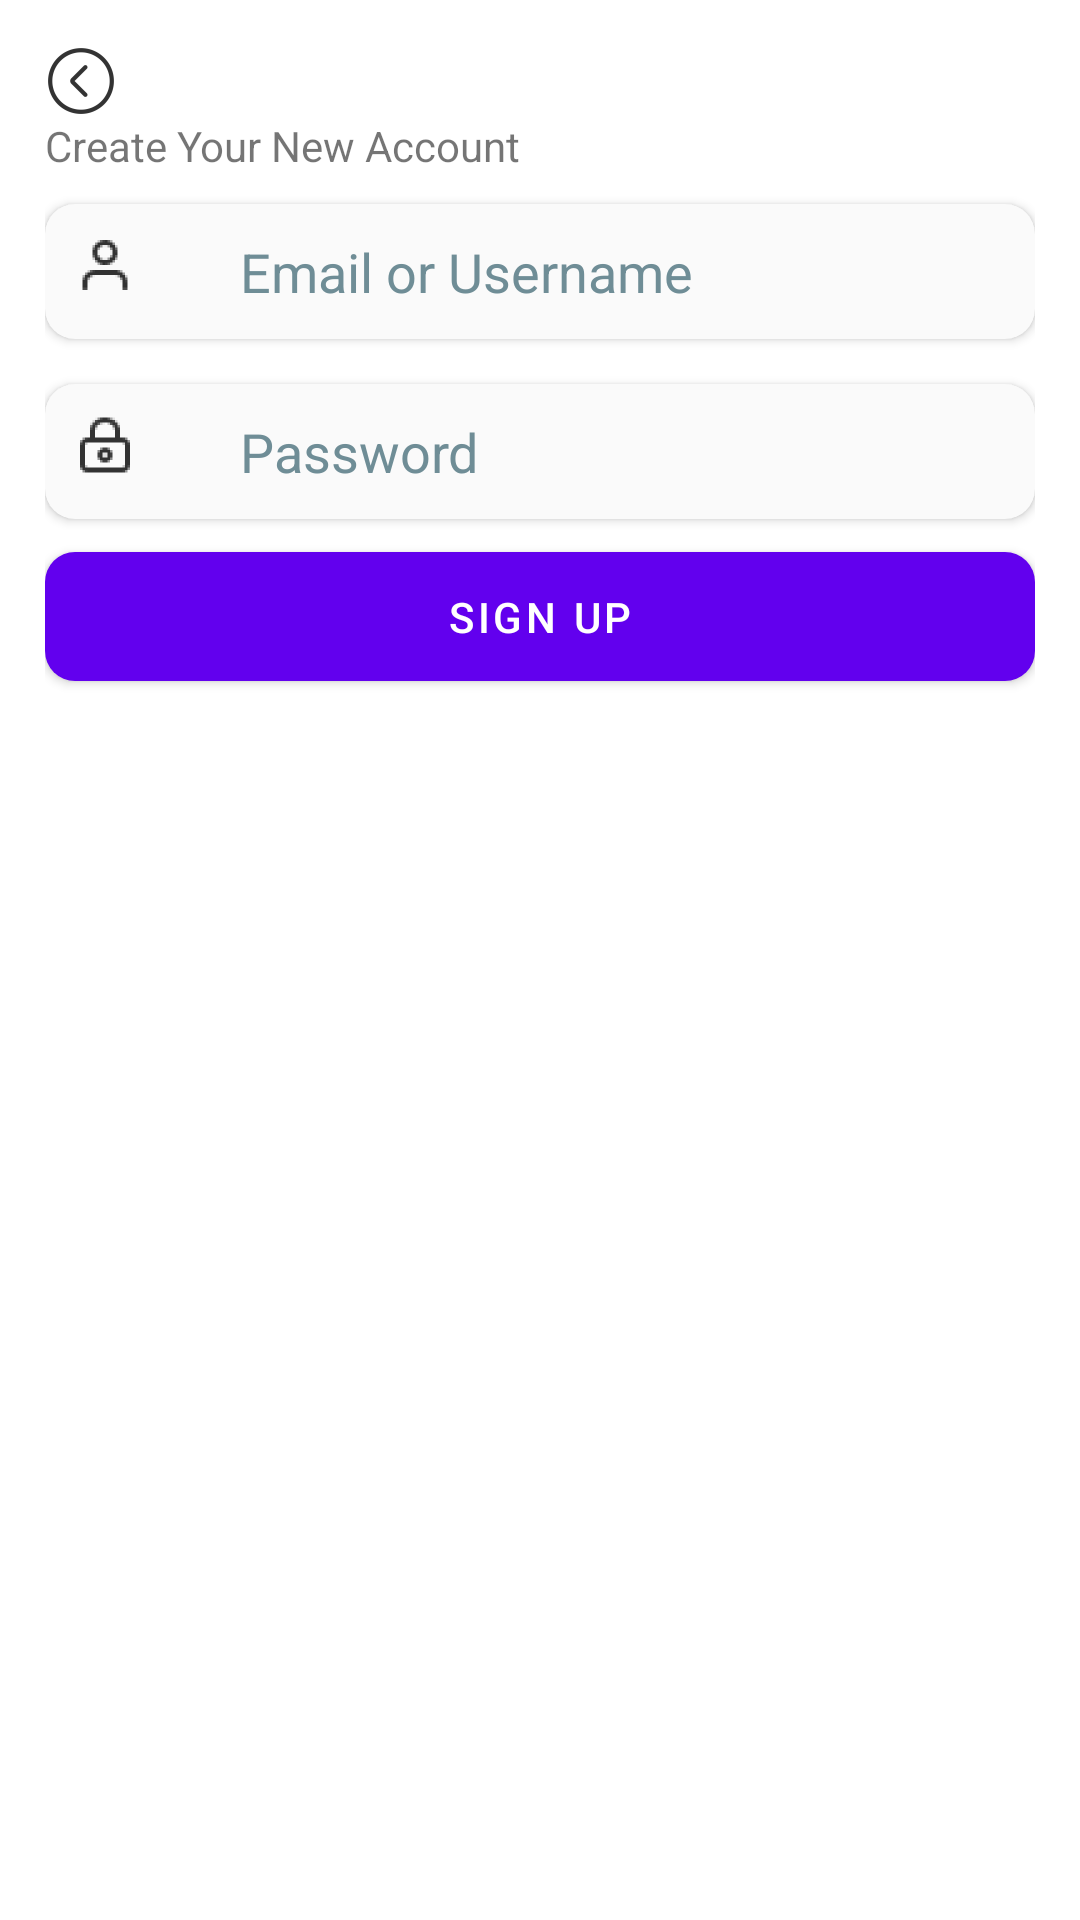

Icons on this 1080 × 1920 Android screen, each with its box as BBox(x1, y1, x2, y2):
back: BBox(48, 48, 114, 114)
